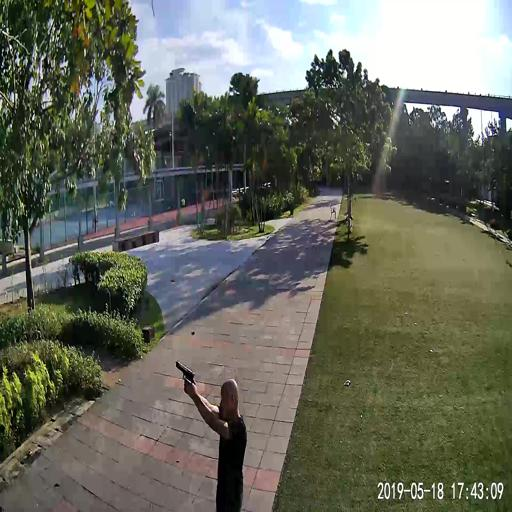pistol: (174, 357, 194, 384)
